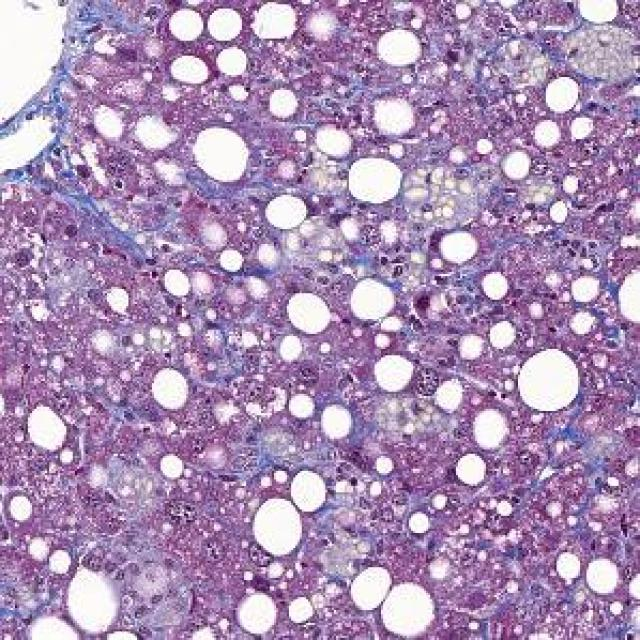fibrosis: (71, 201, 216, 287), (201, 434, 289, 478)
